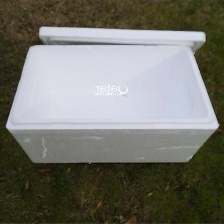foam_box: (2, 20, 222, 167)
